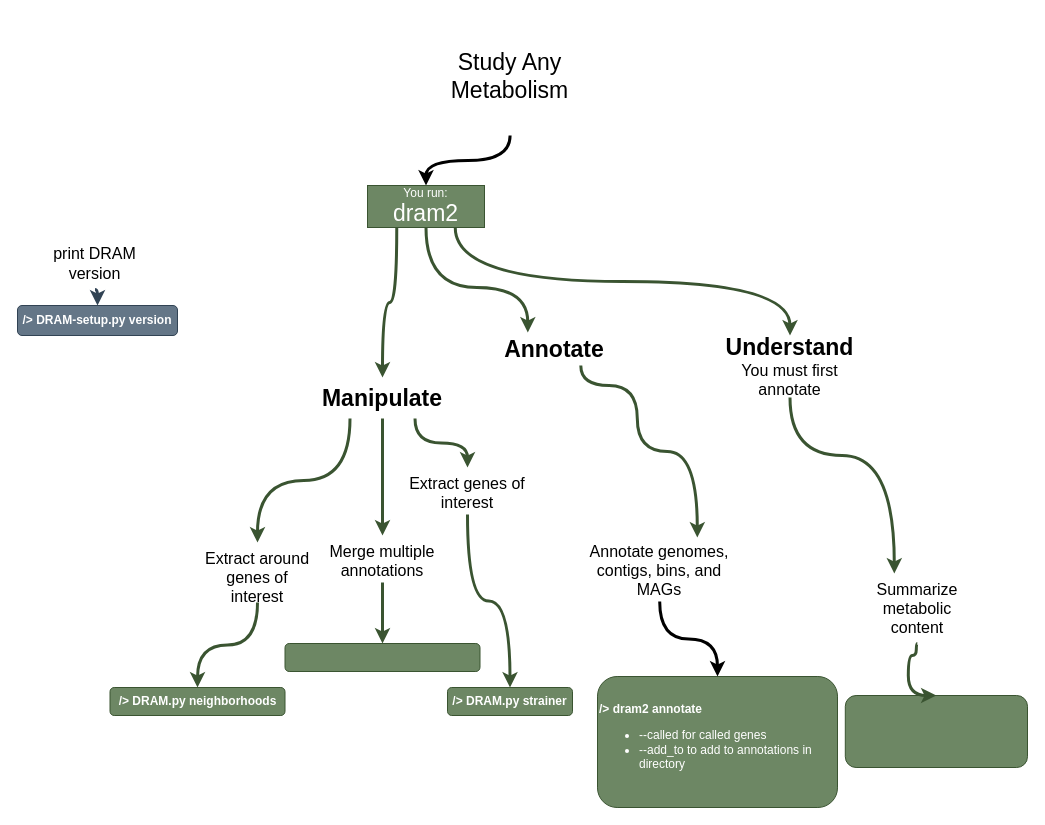
Image size: 1045x825. Some labels were removed from this diagram. The shapes that lost their labels are listed below. From the top down, each one's centre as x and y in pixels, then its label:
point (382, 657): /> DRAM.py merge_annotations
point (936, 731): /> DRAM.py distill --use viral for viral --use methyl for methyl
